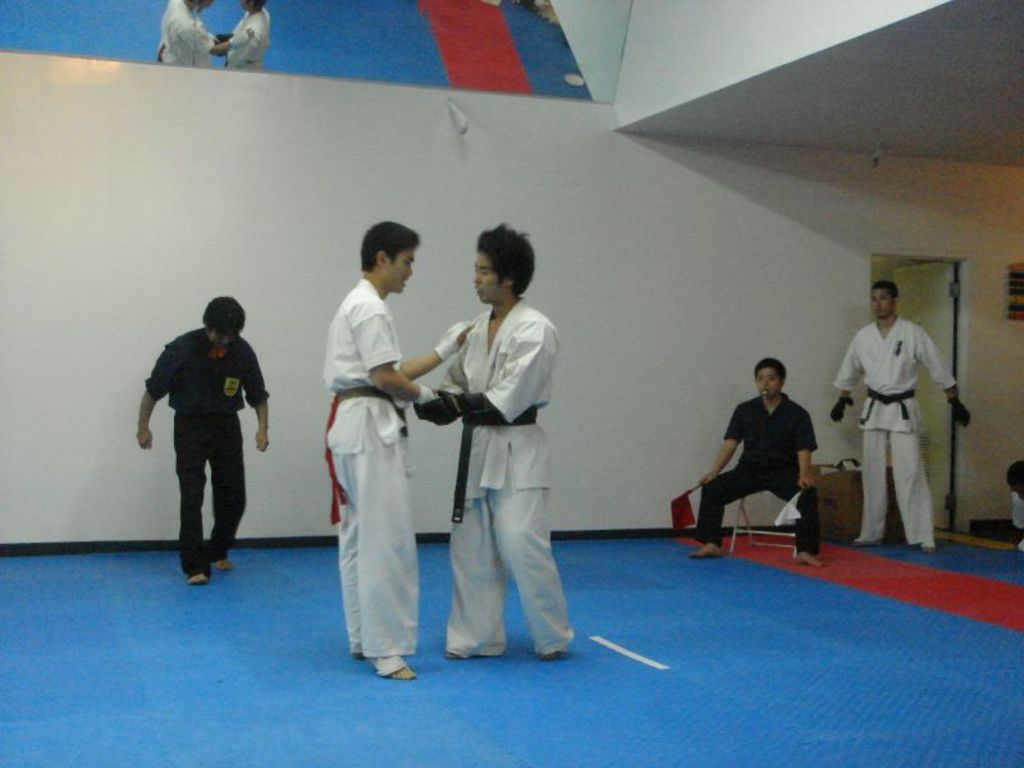Person: (1002, 452, 1024, 564)
